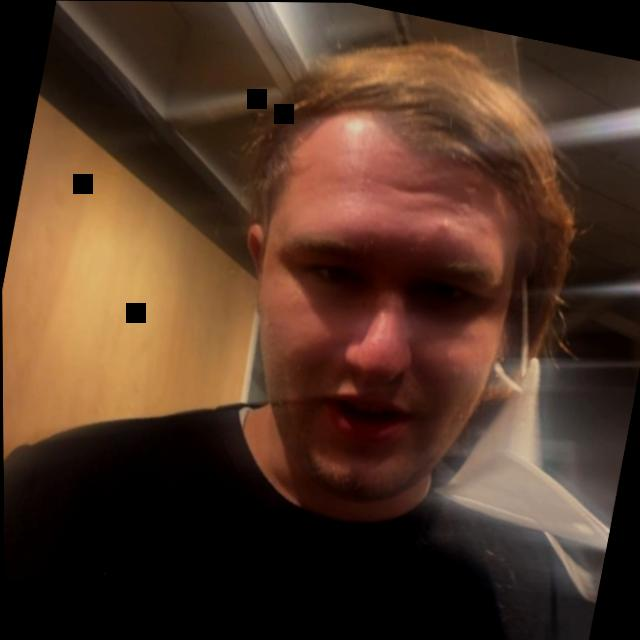NO-Mask: (168, 1, 614, 498)
